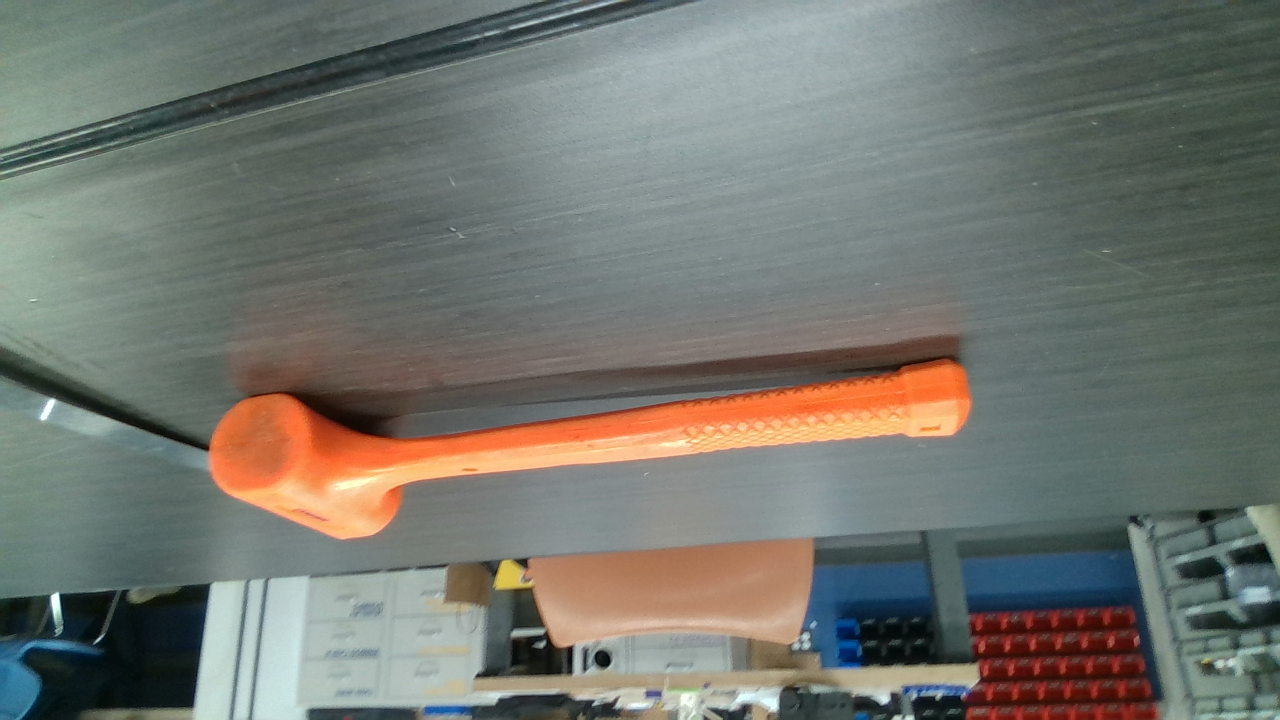Orange Hammer: (216, 354, 971, 539)
